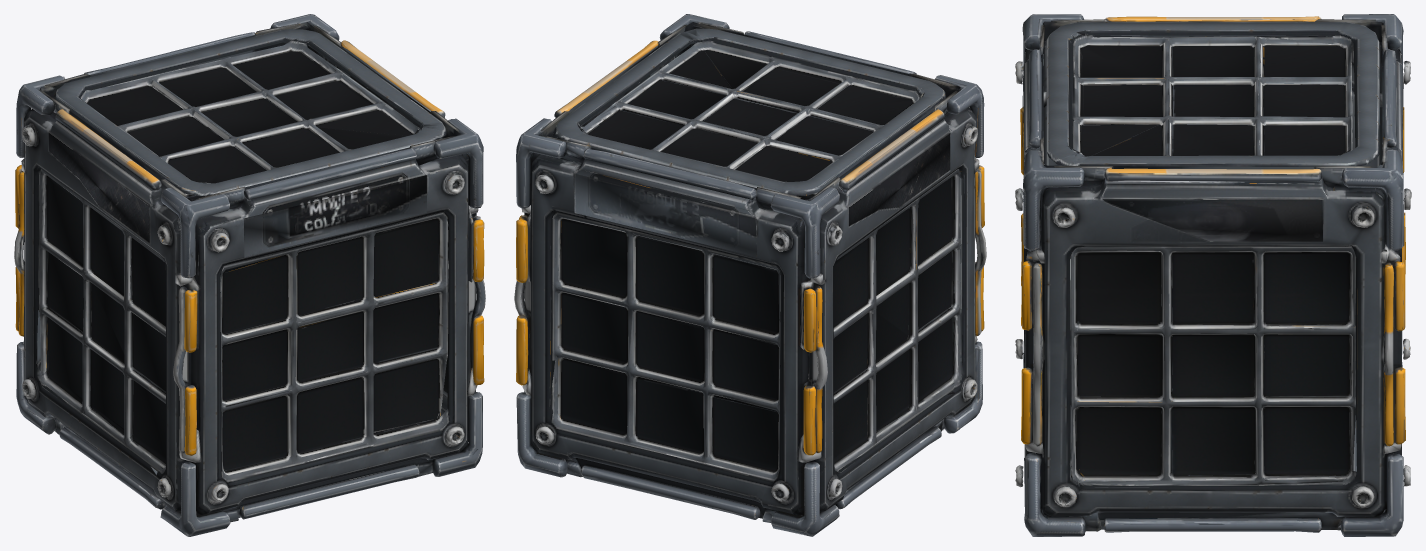
The model's file is ColorGridBox.glb.
3 renders of one model, left to right at view 1: azimuth 30°, elevation 25°; view 2: azimuth 150°, elevation 25°; view 3: azimuth 270°, elevation 25°, orthographic. The views are drawn at different scales.
Size of the model in its own units: 0.9863 by 1 by 0.9766.
Materials: 1 (1 with a texture image).
